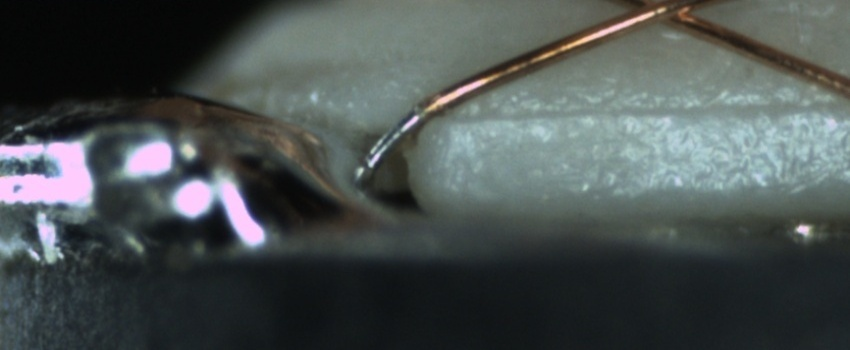CL: (598, 1, 728, 33)
DL: (440, 77, 849, 140)
TS: (354, 107, 424, 188)
